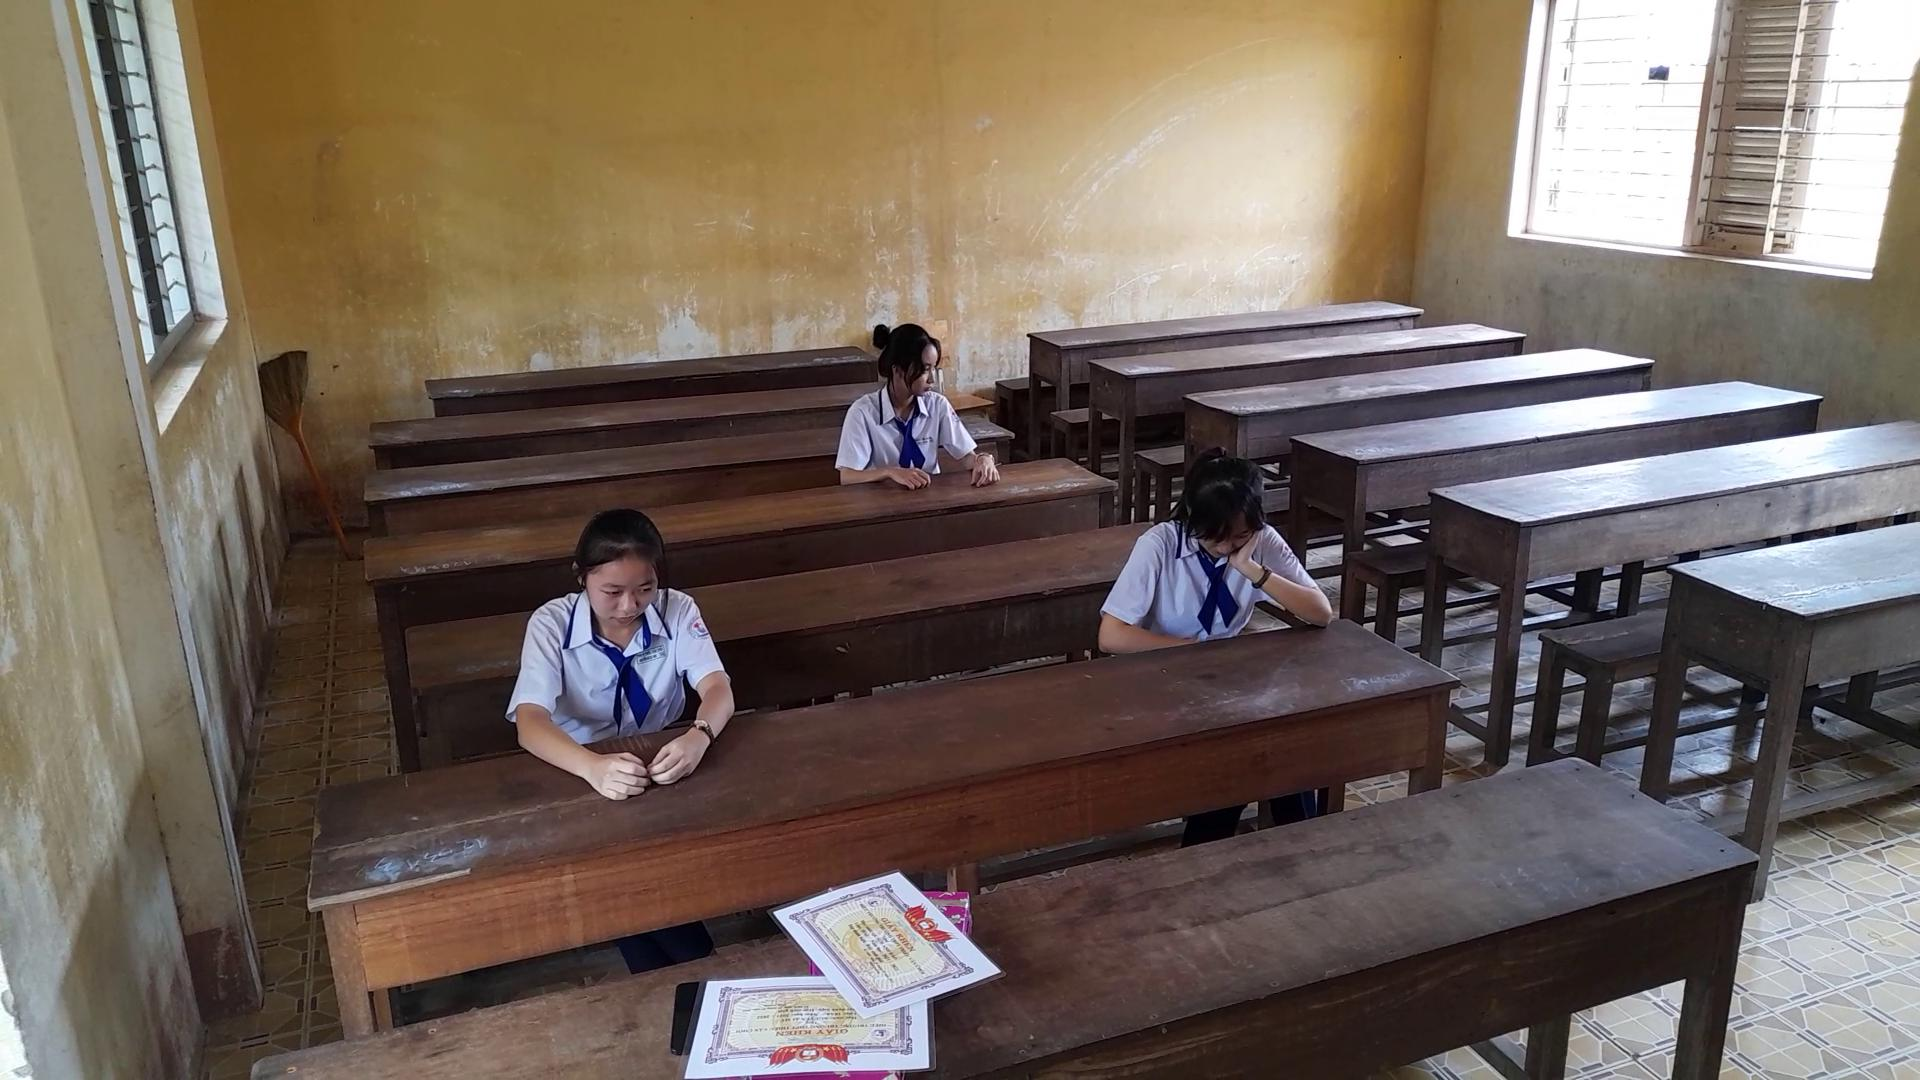Bend Over The Desk: (1153, 439, 1269, 568)
Hand Under Table: (1100, 520, 1196, 665)
Look Around: (845, 307, 964, 411)
Normal: (498, 502, 749, 794)
Wave: (1229, 531, 1341, 632)
